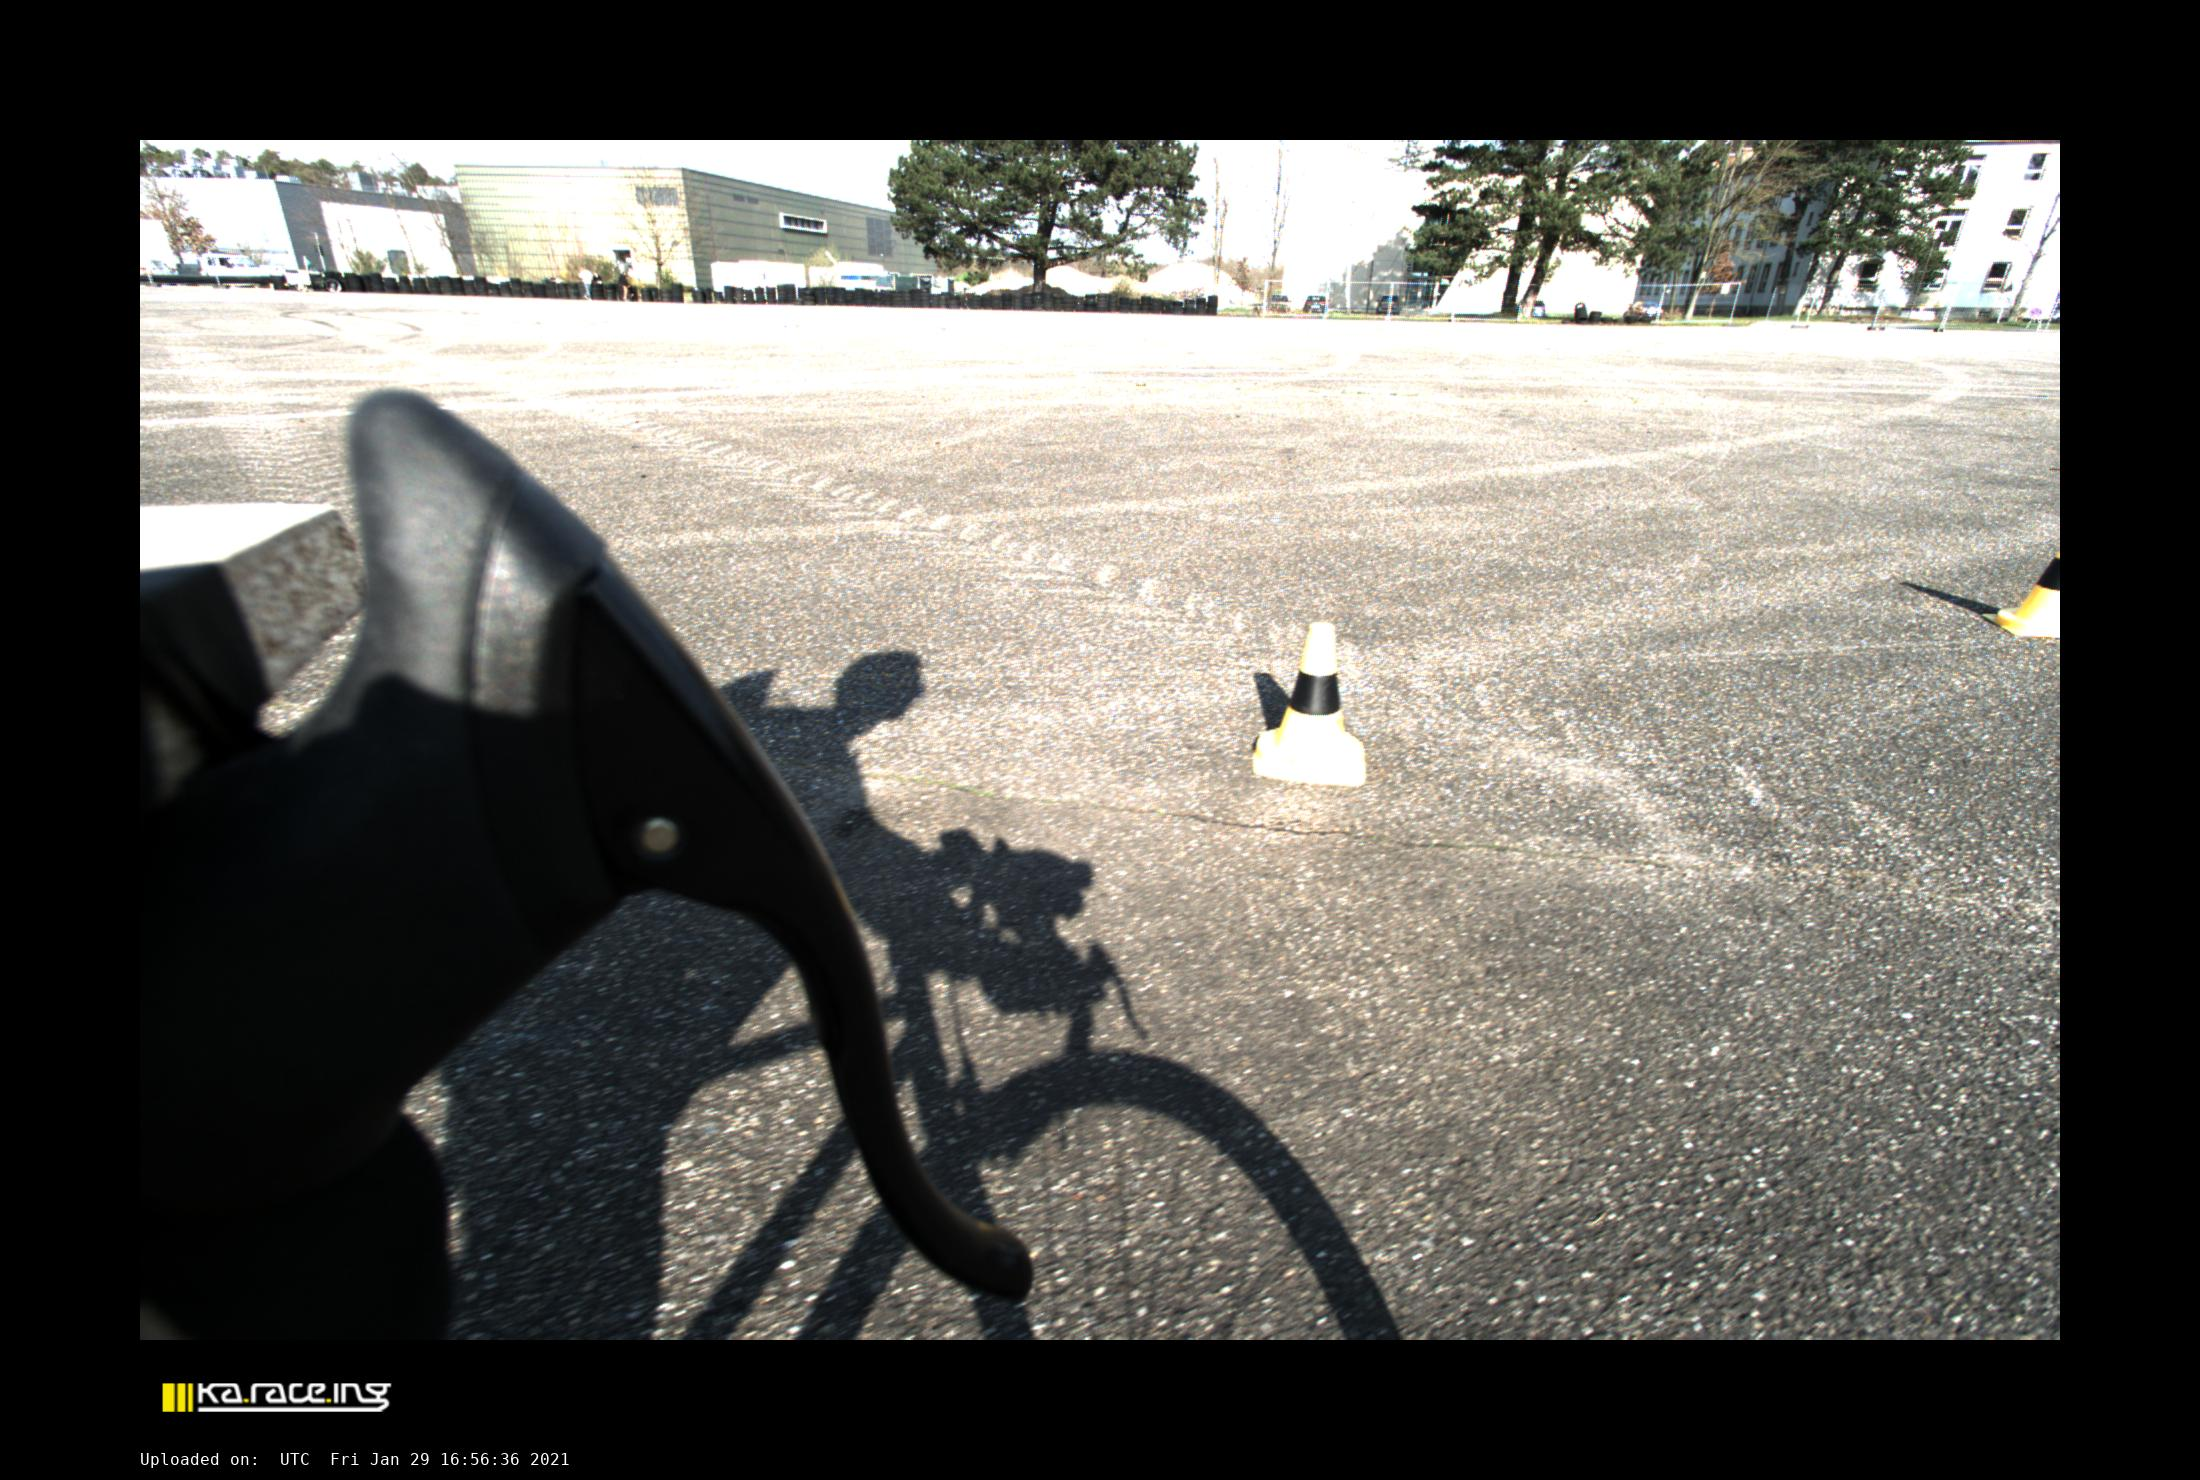yellow_cone: (1254, 623, 1364, 786), (1984, 552, 2060, 638)
